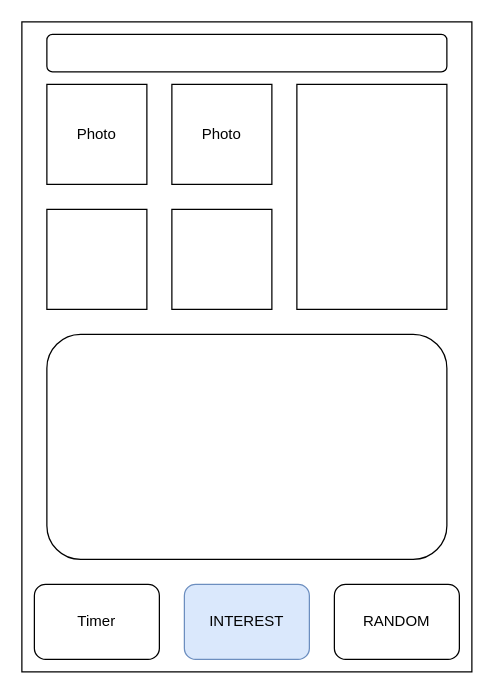
This 494x694 diagram has some shape labels left out. Here are the shapes that lost their labels. From the top down, the box of each, then its label:
(46, 33, 447, 72): Interest Name
(296, 83, 447, 309): We like this because
(46, 333, 447, 559): Note
